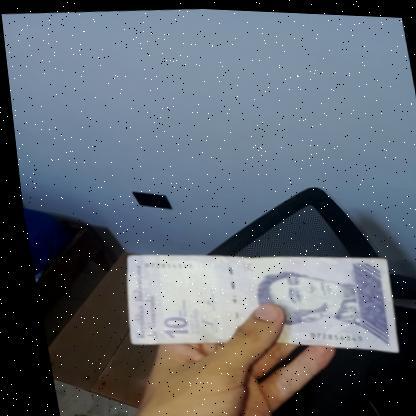ten-front-vef: (107, 235, 398, 368)
